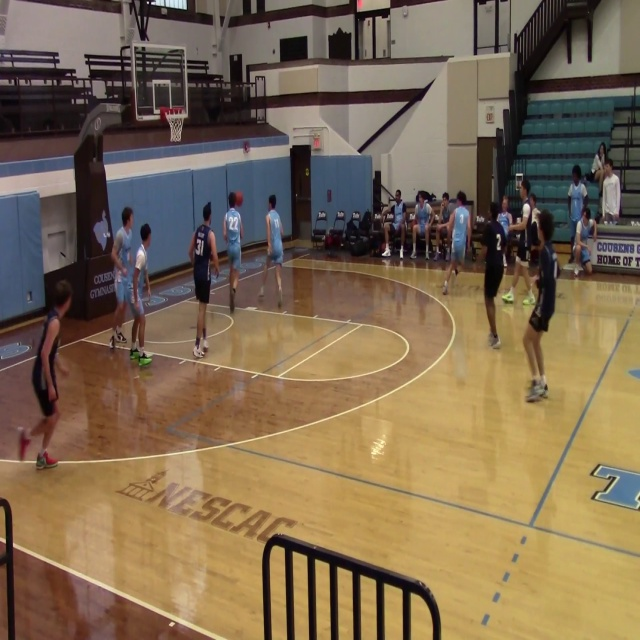Basketball: (234, 191, 243, 206)
